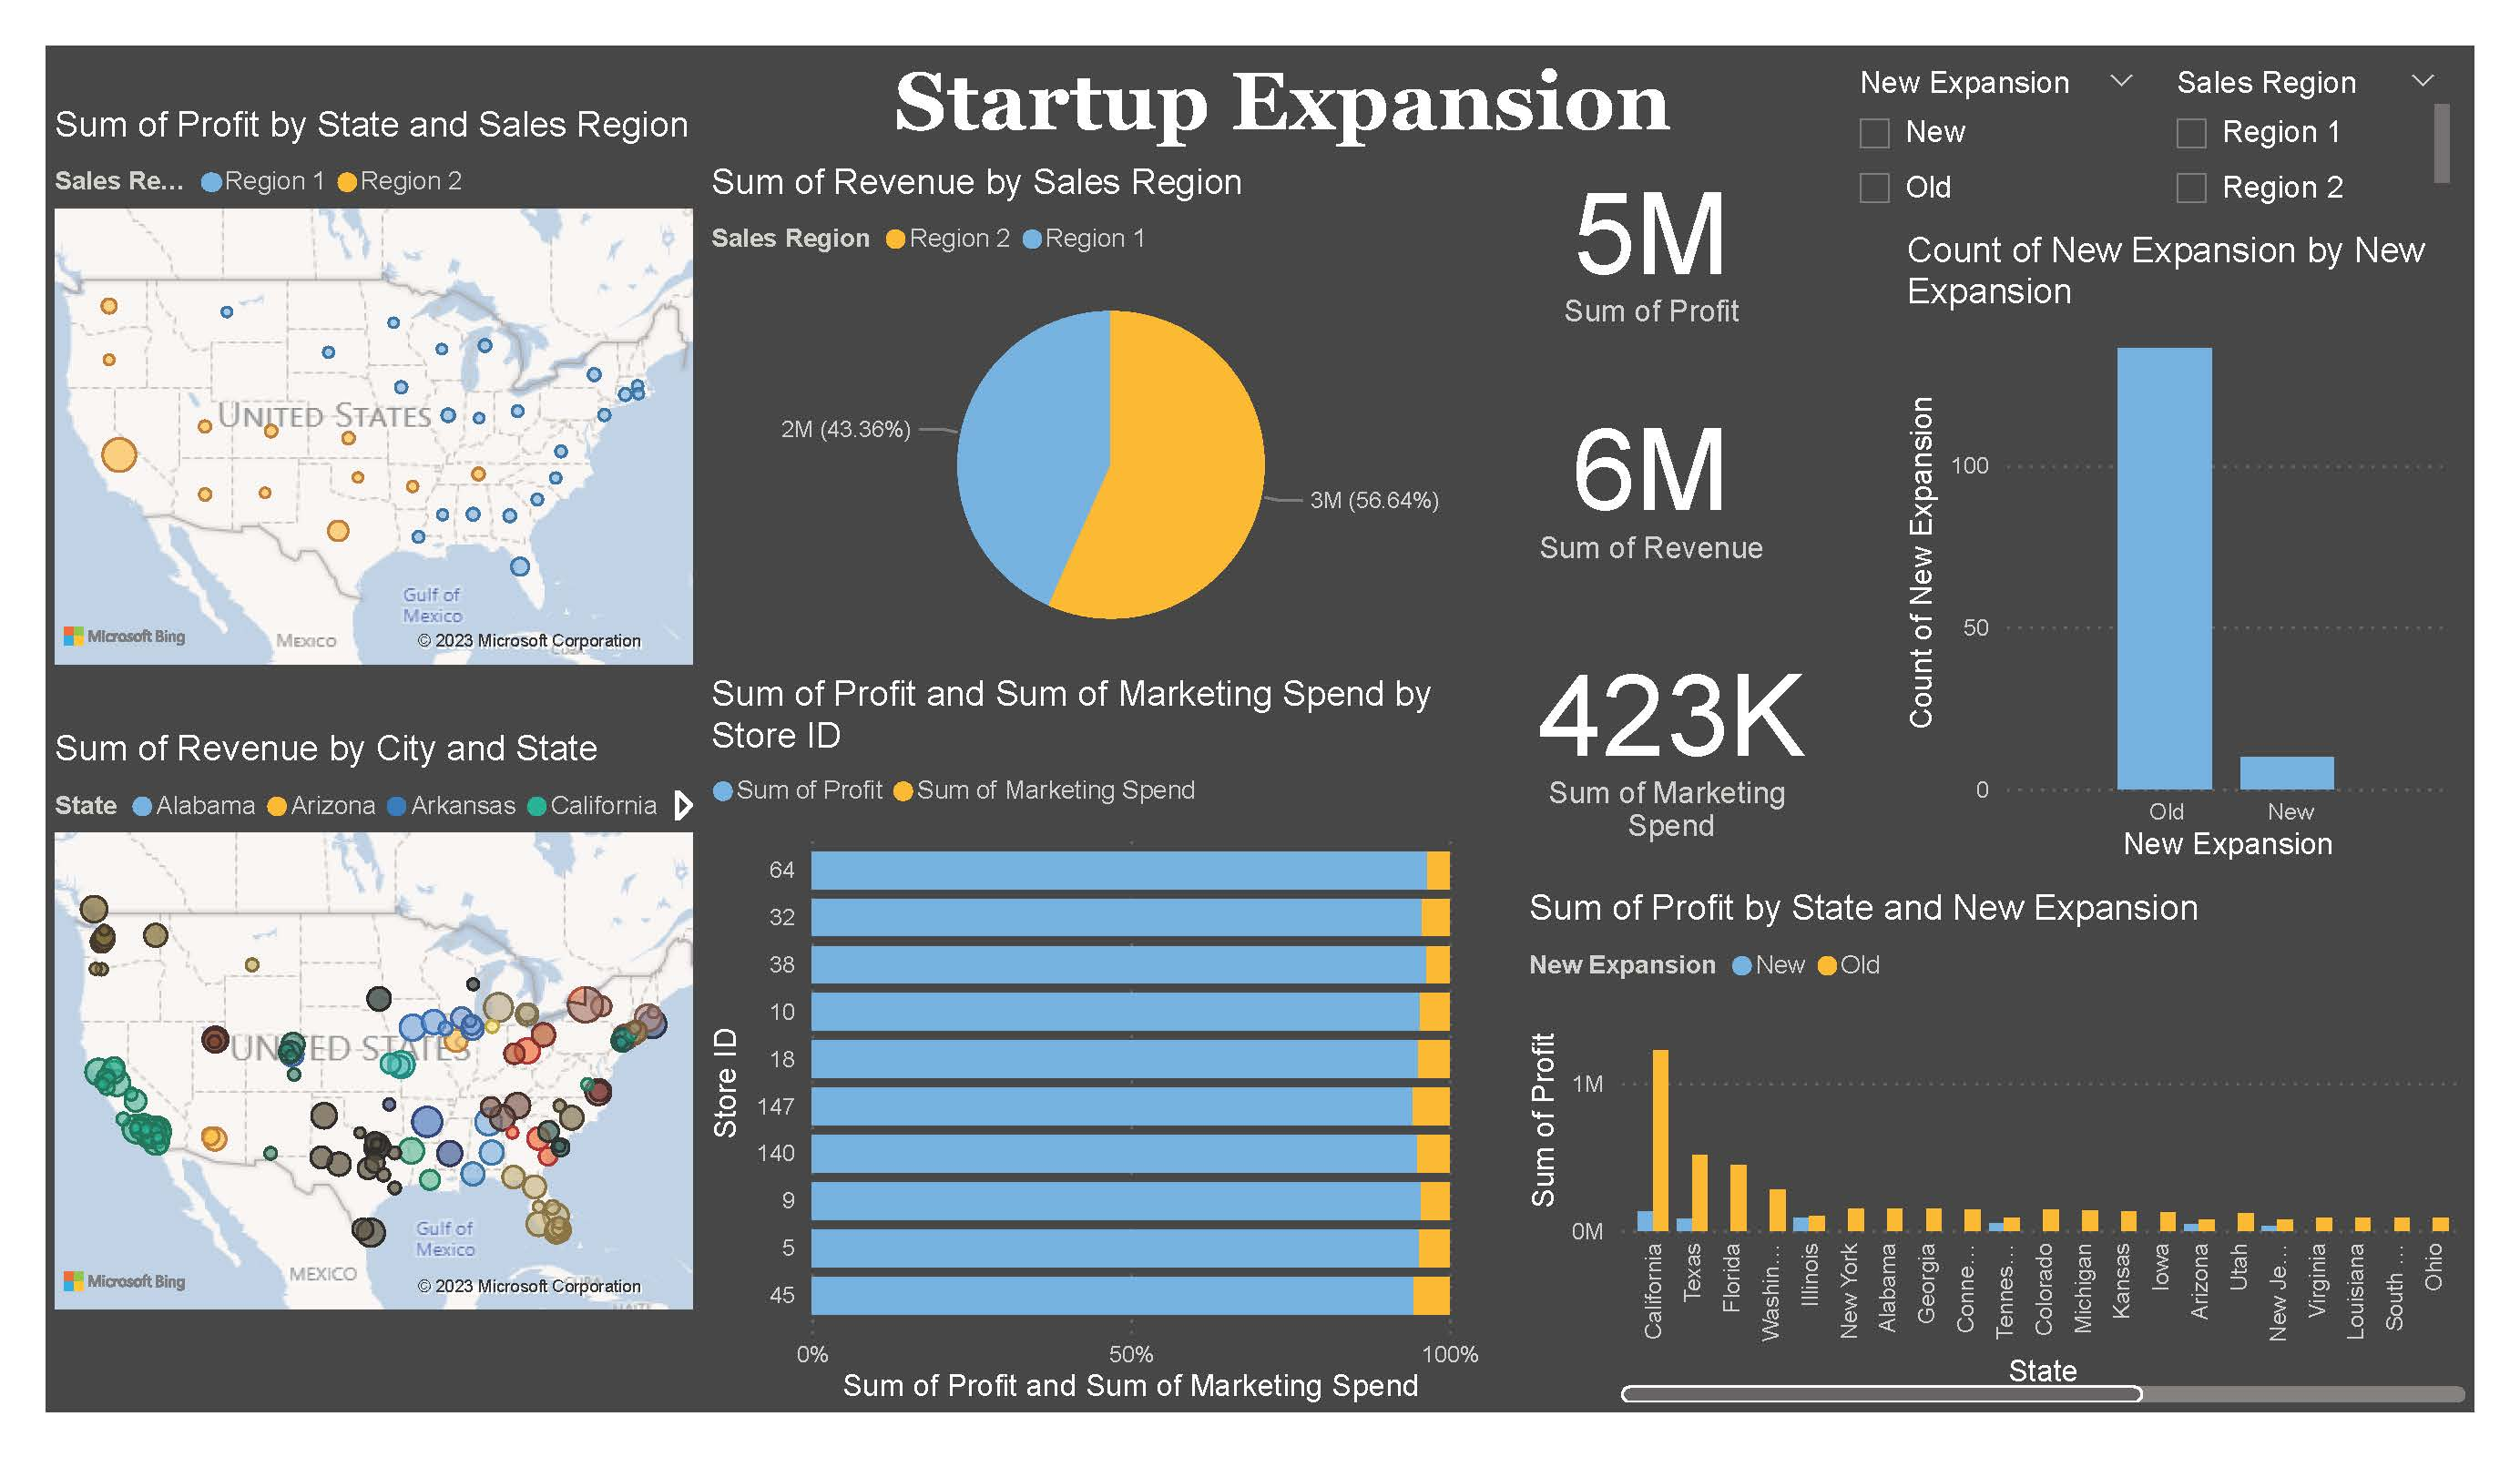

Layout of this report page (visuals, bound fields, positions):
{"tool":"powerbi","page":{"name":"Page 1","canvas":[1280,720],"ordinal":0},"visuals":[{"type":"textbox","box":[441.1,0,433.3,61.1],"z":0},{"type":"map","fields":{"Category":["Startup-Expansions-New.State"],"Size":["Sum(Startup-Expansions-New.Profit)"],"Series":["Startup-Expansions-New.Sales Region"]},"box":[0,31.1,345.6,300],"z":1000},{"type":"map","fields":{"Category":["Startup-Expansions-New.City"],"Series":["Startup-Expansions-New.State"],"Size":["Sum(Startup-Expansions-New.Revenue)"]},"box":[0,360,345.6,311.1],"z":2000},{"type":"columnChart","fields":{"Y":["CountNonNull(Startup-Expansions-New.New Expansion)"],"Category":["Startup-Expansions-New.New Expansion"]},"box":[975.6,96.7,296.7,337.8],"z":2001},{"type":"pieChart","fields":{"Category":["Startup-Expansions-New.Sales Region"],"Y":["Sum(Startup-Expansions-New.Revenue)"]},"box":[345.6,61.1,431.1,270],"z":2002},{"type":"card","fields":{"Values":["Sum(Startup-Expansions-New.Profit)"]},"box":[763.3,47.8,166.7,110],"z":2003},{"type":"card","fields":{"Values":["Sum(Startup-Expansions-New.Marketing Spend)"]},"box":[763.3,270,187.8,174.4],"z":2004},{"type":"card","fields":{"Values":["Sum(Startup-Expansions-New.Revenue)"]},"box":[763.3,157.8,166.7,138.9],"z":2005},{"type":"clusteredColumnChart","fields":{"Category":["Startup-Expansions-New.State"],"Y":["Sum(Startup-Expansions-New.Profit)"],"Series":["Startup-Expansions-New.New Expansion"]},"box":[776.7,444.4,503.3,275.6],"z":2006},{"type":"slicer","fields":{"Values":["Startup-Expansions-New.Sales Region"]},"box":[1110,5.6,162.2,83.3],"z":2007},{"type":"slicer","fields":{"Values":["Startup-Expansions-New.New Expansion"]},"box":[943.3,5.6,170,91.1],"z":2008},{"type":"hundredPercentStackedBarChart","fields":{"Category":["Startup-Expansions-New.Store ID"],"Y":["Sum(Startup-Expansions-New.Profit)","Sum(Startup-Expansions-New.Marketing Spend)"]},"box":[345.6,331.1,415.6,388.9],"z":2009}]}

Visuals, with their boxes in screenshot pixels (x1, y1, x2, y2):
textbox: pyautogui.locateOnScreen(883, 46, 1705, 161)
map - Startup-Expansions-New.State x Sum(Startup-Expansions-New.Profit): pyautogui.locateOnScreen(46, 105, 701, 674)
map - Startup-Expansions-New.City x Startup-Expansions-New.State: pyautogui.locateOnScreen(46, 728, 701, 1319)
columnChart - CountNonNull(Startup-Expansions-New.New Expansion) x Startup-Expansions-New.New Expansion: pyautogui.locateOnScreen(1897, 229, 2460, 870)
pieChart - Startup-Expansions-New.Sales Region x Sum(Startup-Expansions-New.Revenue): pyautogui.locateOnScreen(701, 161, 1519, 674)
card - Sum(Startup-Expansions-New.Profit): pyautogui.locateOnScreen(1494, 137, 1811, 345)
card - Sum(Startup-Expansions-New.Marketing Spend): pyautogui.locateOnScreen(1494, 557, 1851, 889)
card - Sum(Startup-Expansions-New.Revenue): pyautogui.locateOnScreen(1494, 345, 1811, 608)
clusteredColumnChart - Startup-Expansions-New.State x Sum(Startup-Expansions-New.Profit): pyautogui.locateOnScreen(1519, 889, 2474, 1411)
slicer - Startup-Expansions-New.Sales Region: pyautogui.locateOnScreen(2152, 56, 2460, 214)
slicer - Startup-Expansions-New.New Expansion: pyautogui.locateOnScreen(1835, 56, 2158, 229)
hundredPercentStackedBarChart - Startup-Expansions-New.Store ID x Sum(Startup-Expansions-New.Profit): pyautogui.locateOnScreen(701, 674, 1490, 1411)
